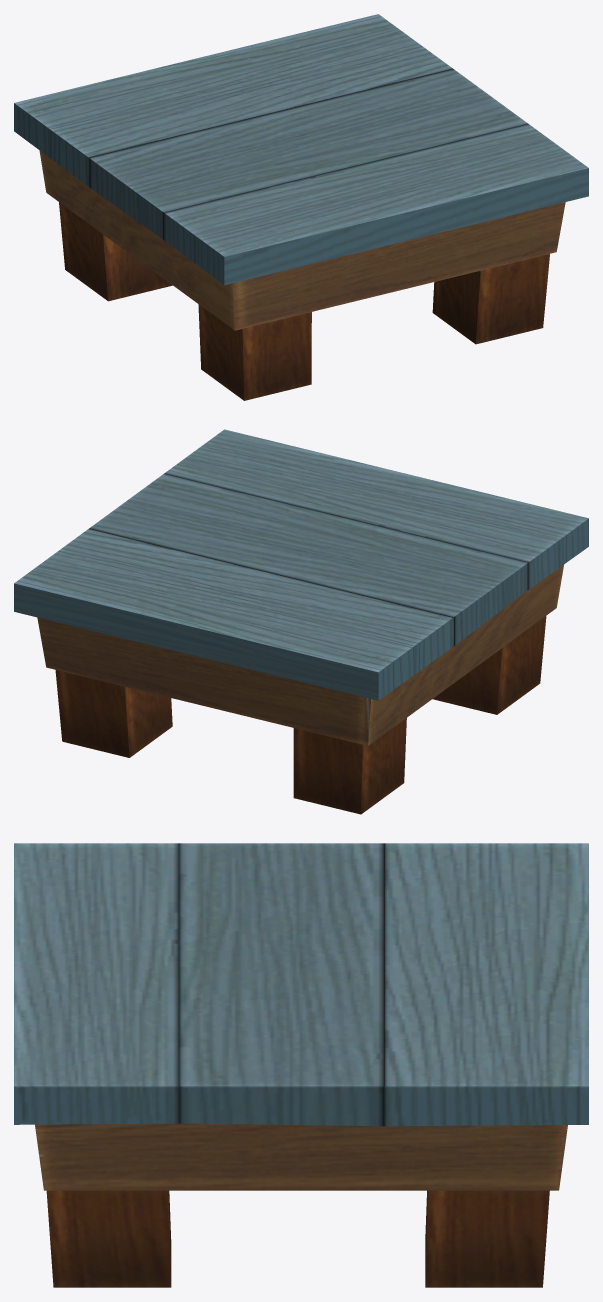
The model's file is Worktop.glb.
3 renders of one model, top to bottom at view 1: azimuth 30°, elevation 25°; view 2: azimuth 150°, elevation 25°; view 3: azimuth 270°, elevation 25°, orthographic. The views are drawn at different scales.
Visible parts, largest first — view 1: Worktop; view 2: Worktop; view 3: Worktop.
Part boxes in pixels (x1,y1,x2,y2): Worktop: (14,14,588,400); Worktop: (14,429,588,814); Worktop: (14,843,588,1287).
Bounding box in the file's own units: 1.2 × 0.5124 × 1.2.
Materials: 1 (1 with a texture image).
